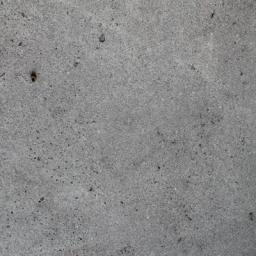FOD: (27, 73, 41, 87)
